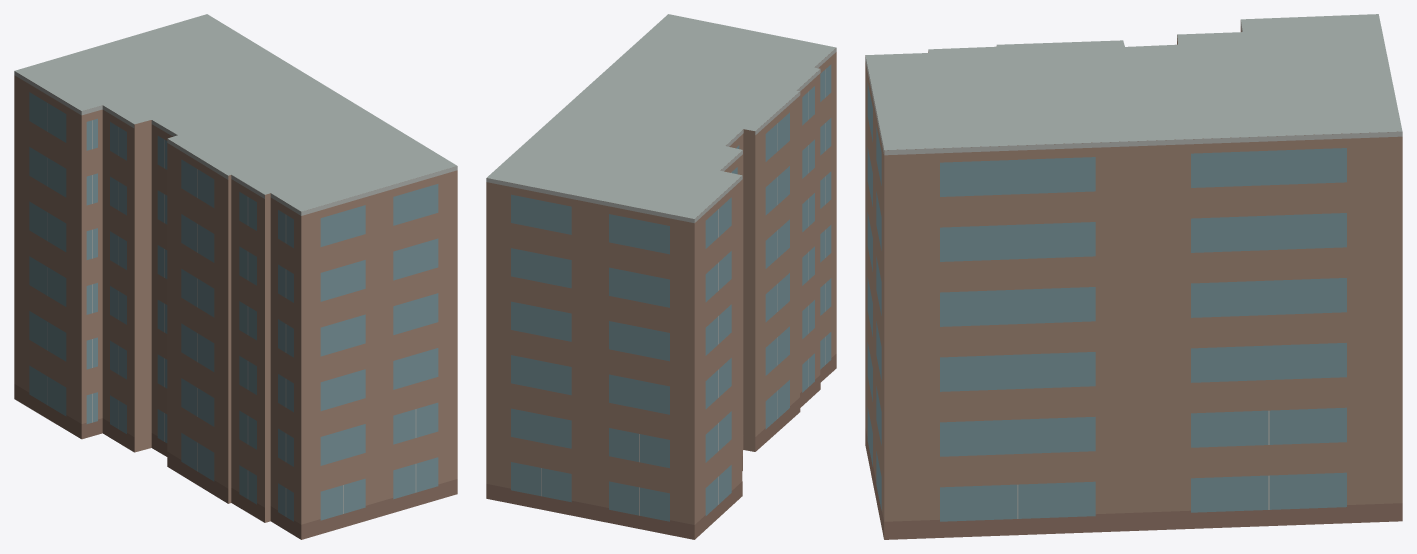
The model's file is survey-upis-32631665.glb.
3 views of the same model, side by side, from view 1: azimuth 30°, elevation 25°; view 2: azimuth 150°, elevation 25°; view 3: azimuth 270°, elevation 25° (orthographic). The views are drawn at different scales.
Parts seen in each view (by area): view 1: survey-upis-32631665.tmp; view 2: survey-upis-32631665.tmp; view 3: survey-upis-32631665.tmp.
Boxes of the visible parts, x1,y1,x2,y2 form: survey-upis-32631665.tmp: (14,14,457,539); survey-upis-32631665.tmp: (486,14,836,539); survey-upis-32631665.tmp: (865,14,1402,539).
Bounding box in the file's own units: 14.11 × 18.8 × 23.5.
